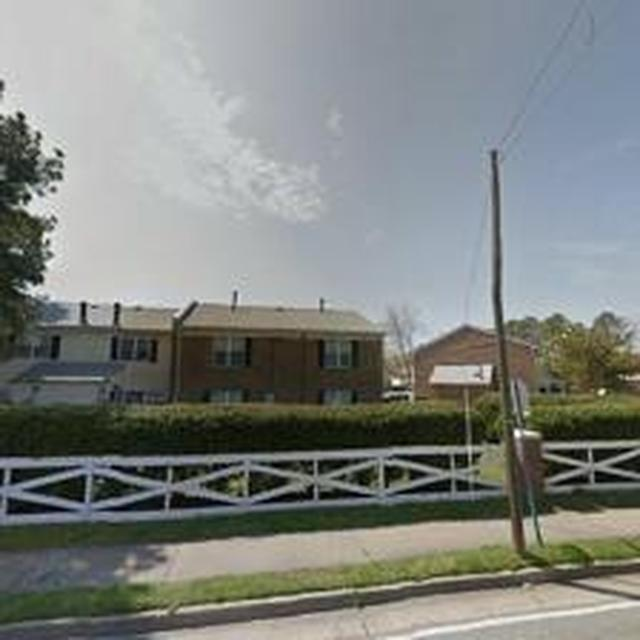building: (178, 298, 384, 404), (10, 295, 186, 401), (412, 320, 541, 400)
